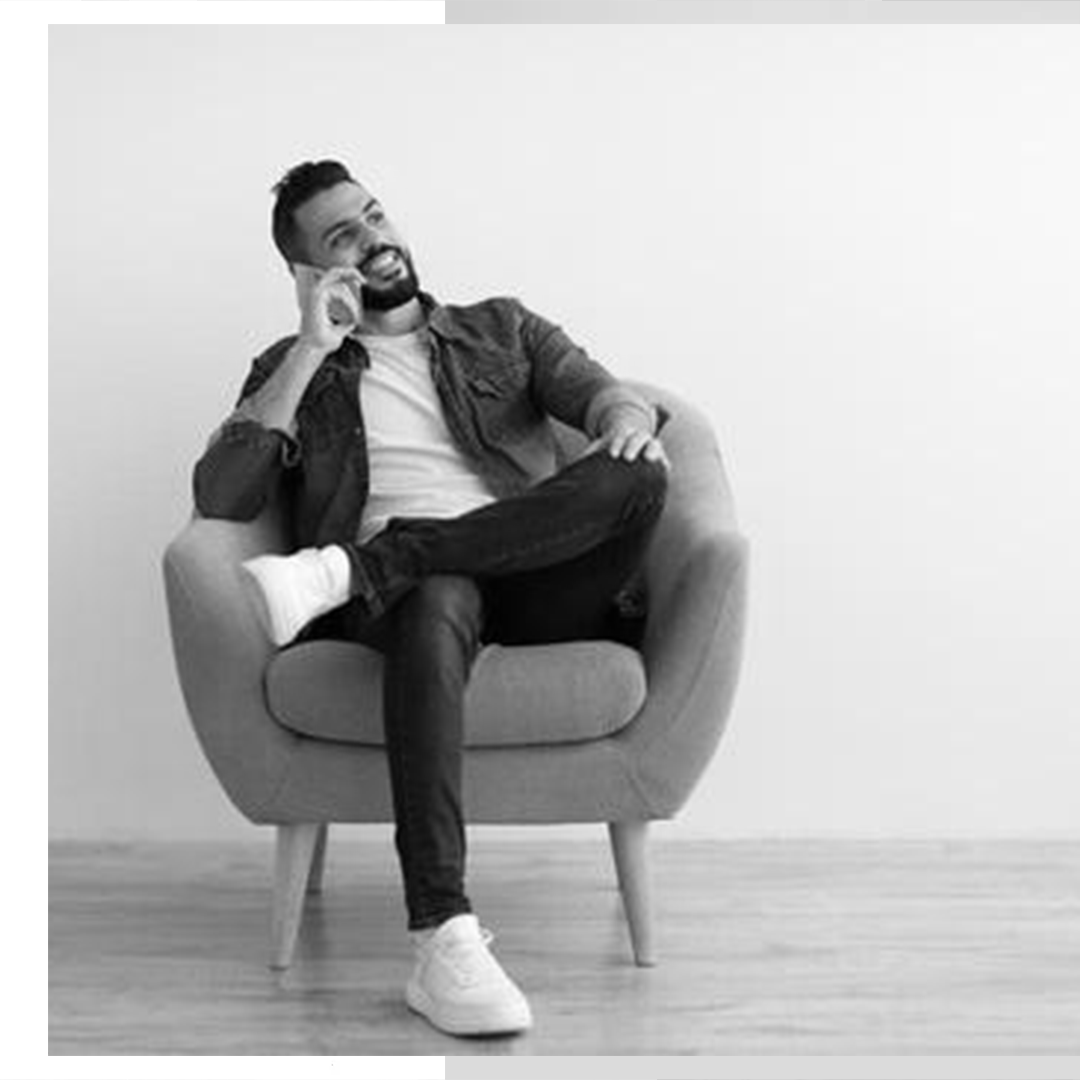distracted: (217, 122, 508, 550)
